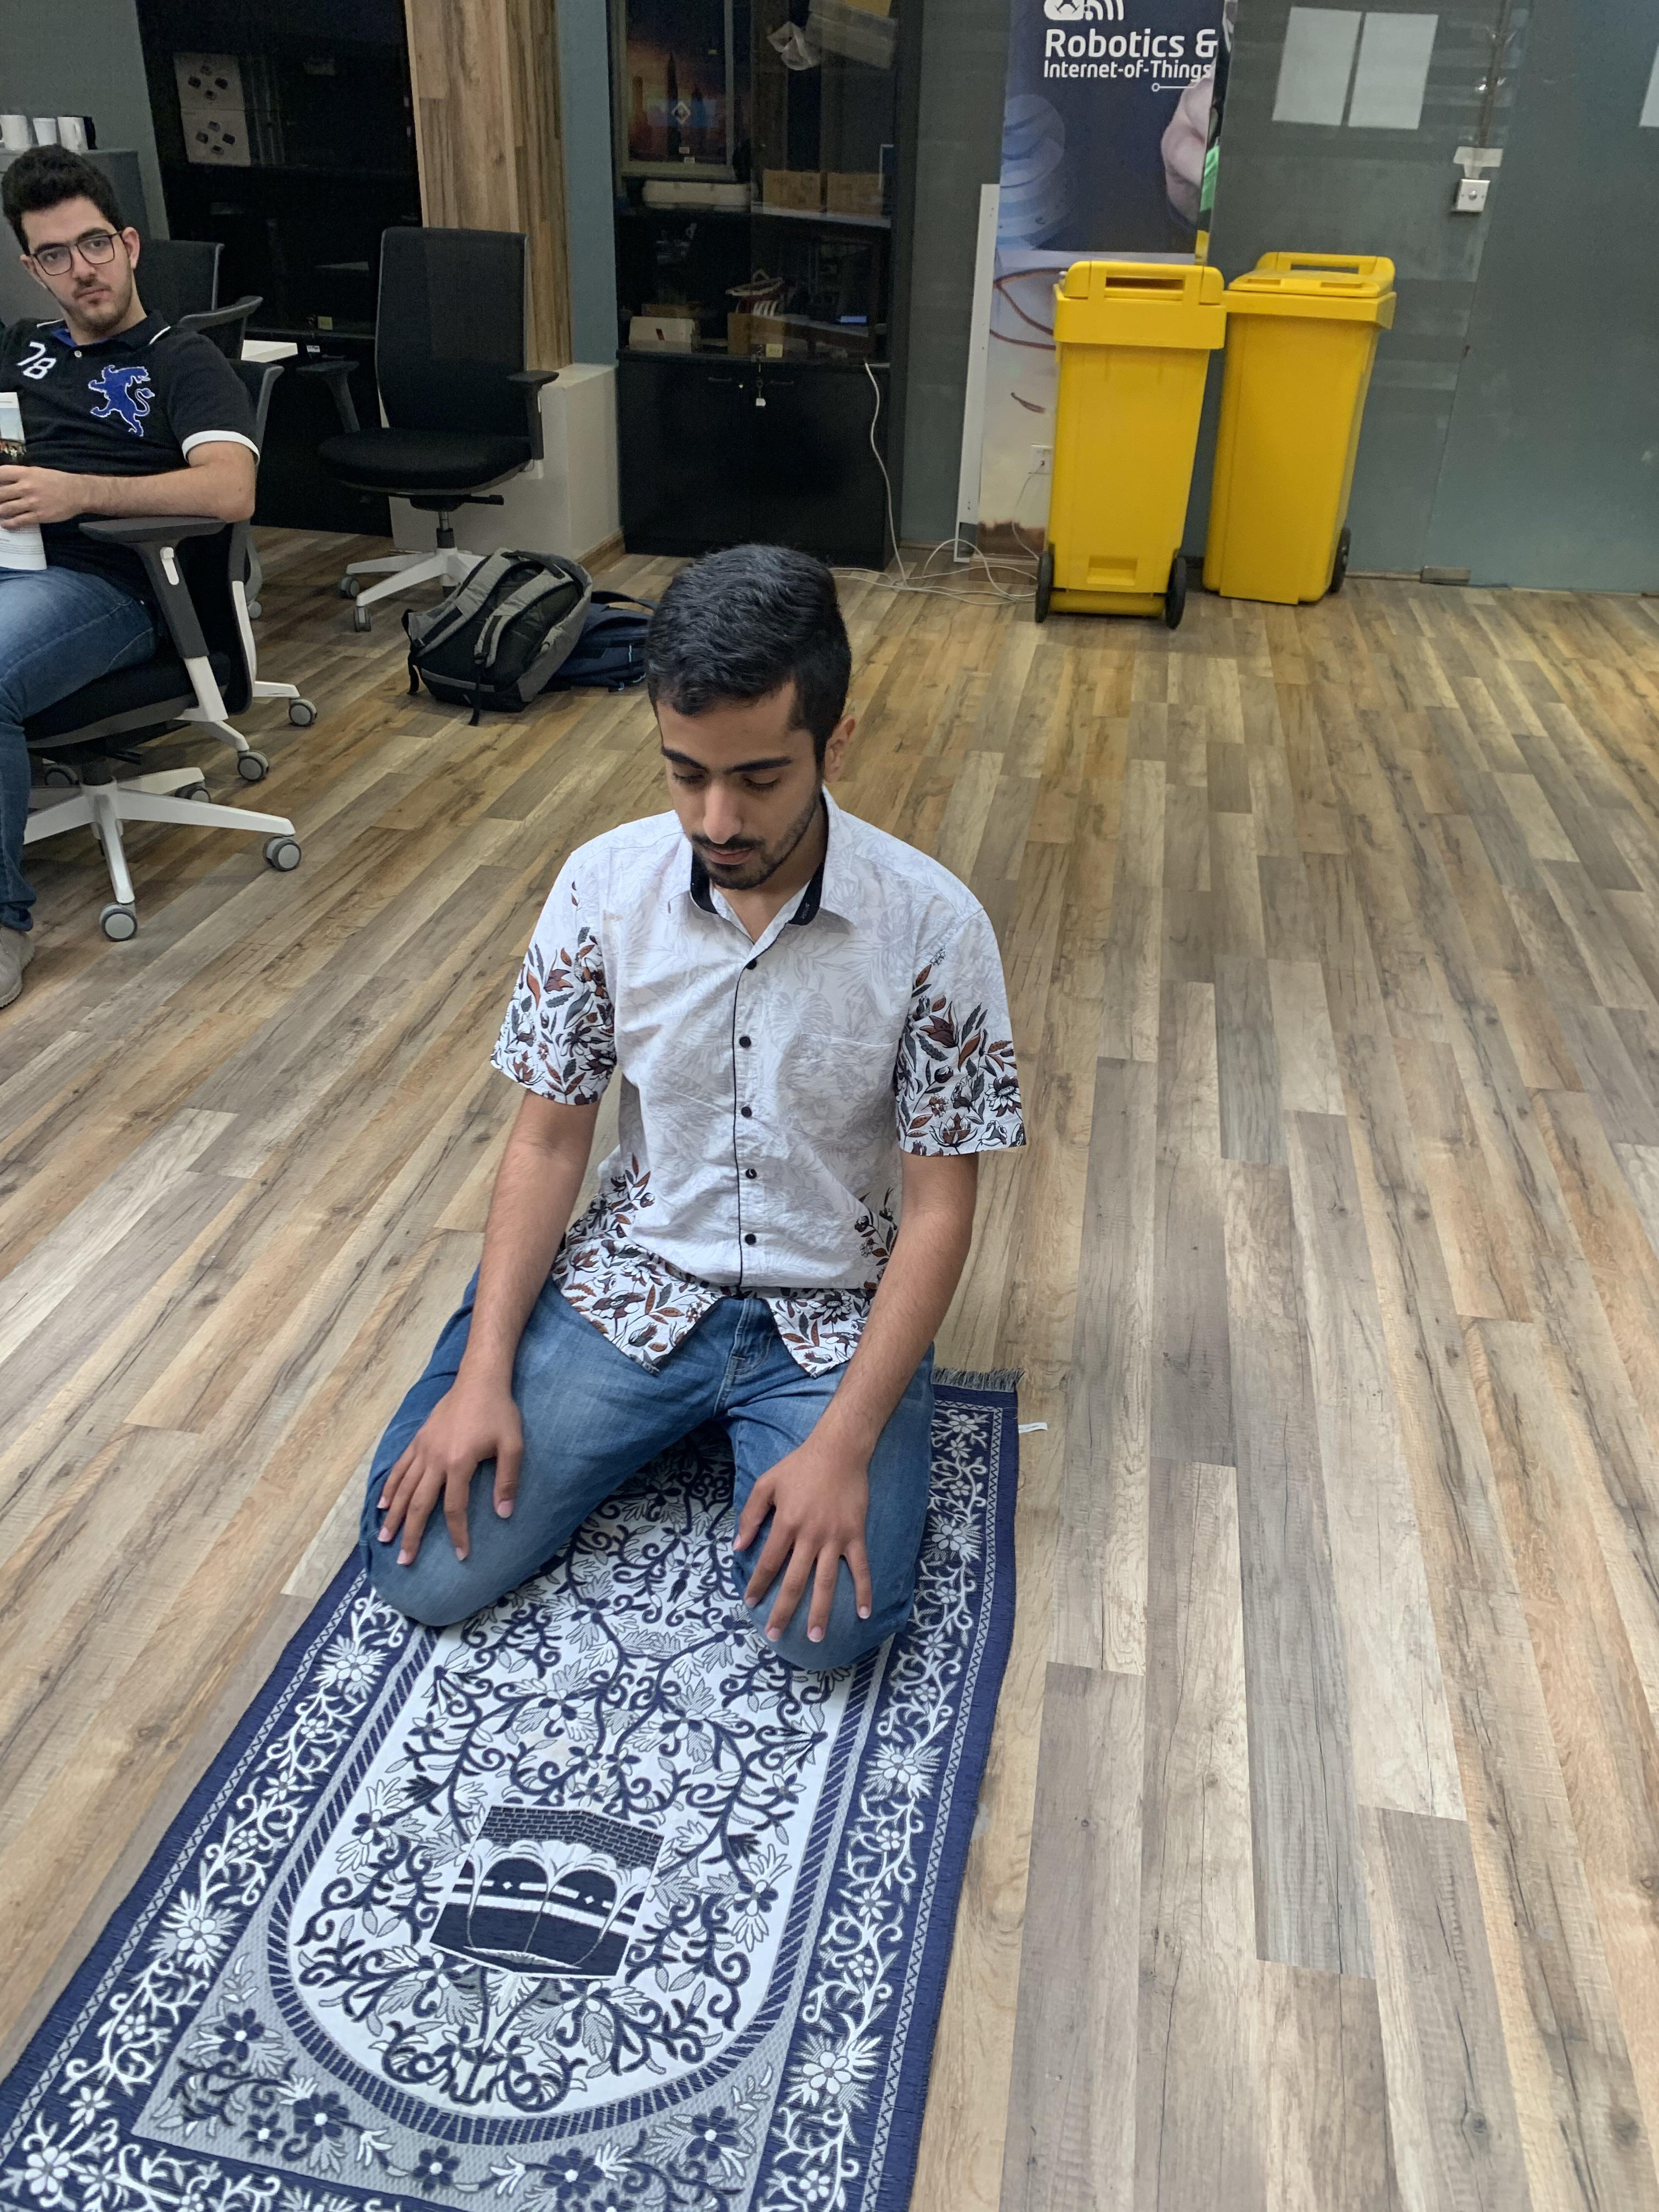julus: (354, 535, 1042, 1688)
